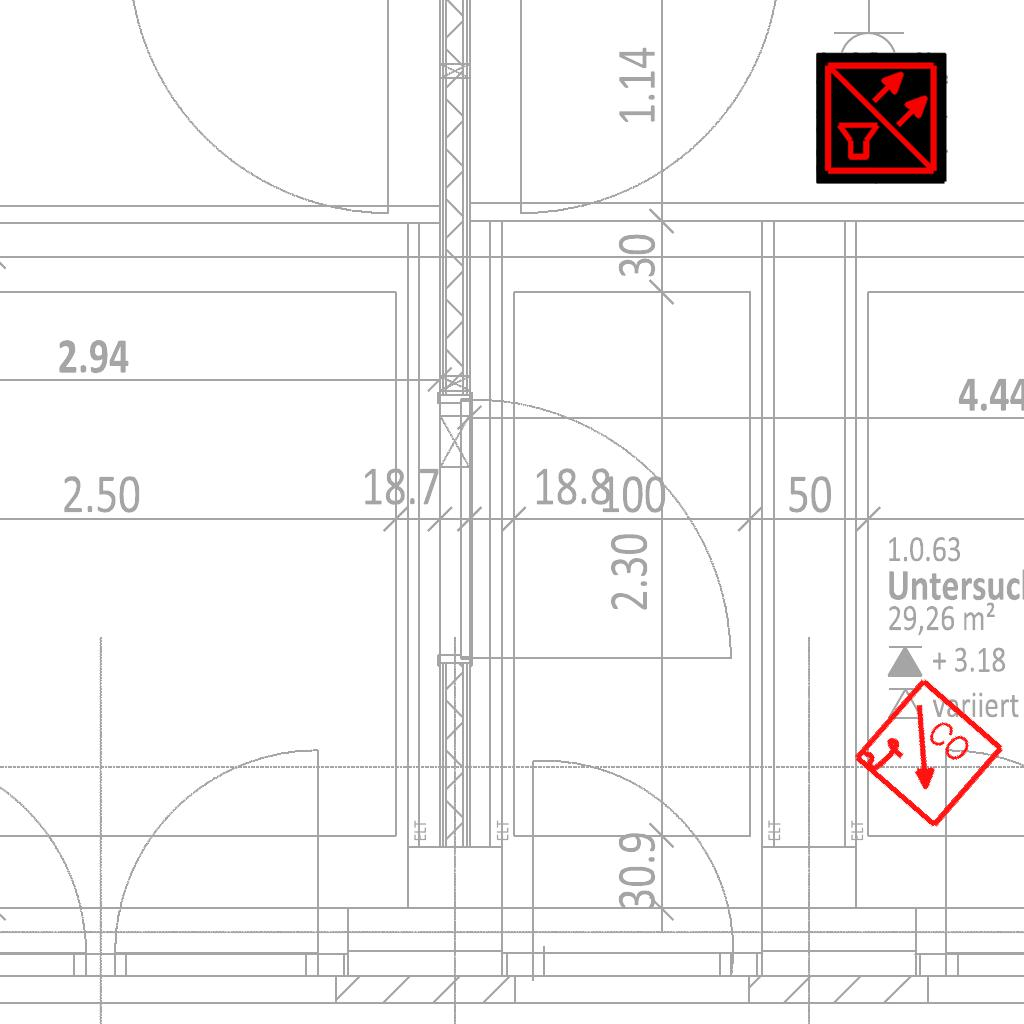OKW_Multisensormelder_(Kombination_optischer_Rauch-Kahlenmonoxid_Waerme-Melder): (816, 52, 948, 184)
ROA_Rauchmelder_optisch_mit_Signalgeber_(Sockelsirene): (848, 674, 1009, 835)
